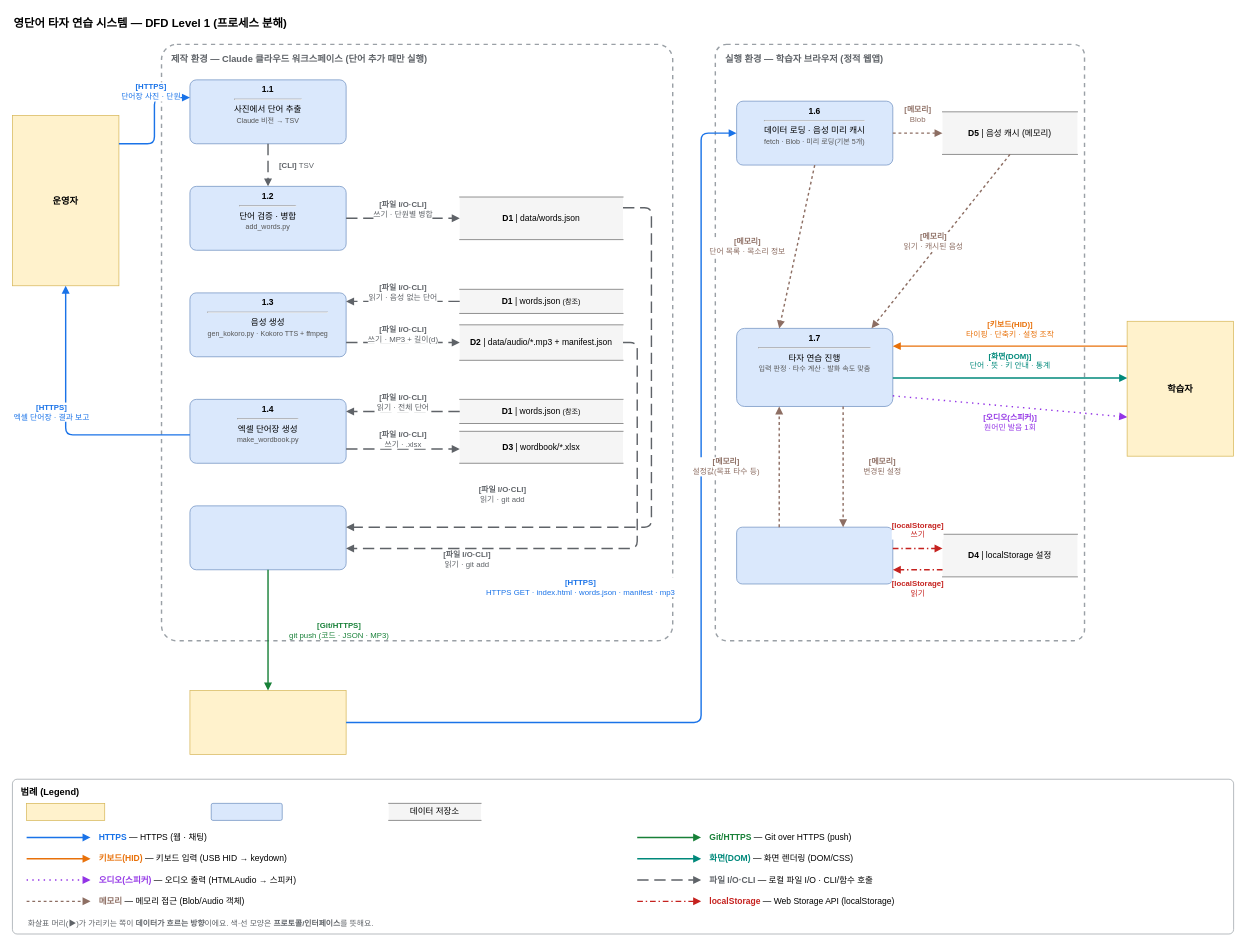
Some shapes in this 1246 by 946 pixel diagram are drawn without their labels. The shapes that lost their labels are listed below. From the top down, each one's box as (x1, y1, x2, y2) in pixels, then its label:
(189, 505, 346, 570): 1.5 저장소 반영 · 배포 git commit/push → Pages
(736, 526, 893, 584): 1.8 설정 저장 · 복원
(189, 690, 346, 754): GitHub 저장소 + Pages
(26, 803, 105, 820): 외부 엔티티
(211, 803, 282, 820): 프로세스
